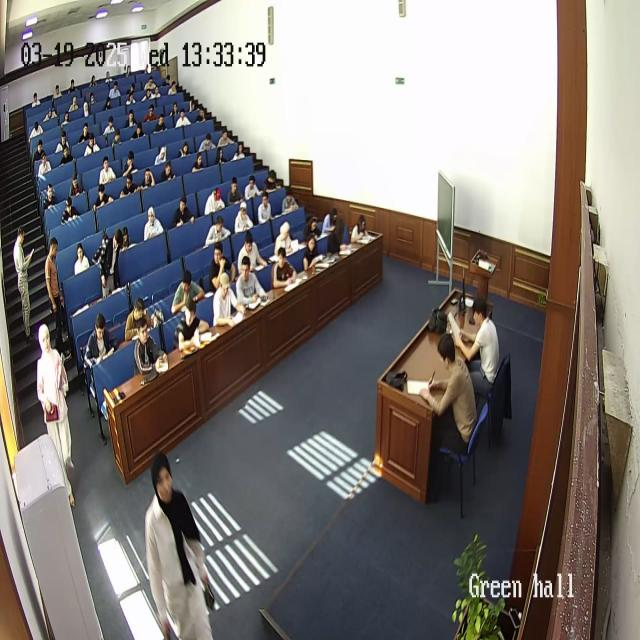person: (144, 454, 214, 636), (419, 332, 478, 488), (36, 322, 75, 503), (456, 296, 500, 408), (12, 224, 36, 339), (45, 234, 69, 348), (94, 225, 124, 297), (132, 315, 165, 373), (84, 312, 116, 370), (212, 271, 244, 328), (177, 296, 210, 351), (235, 256, 267, 308), (172, 271, 206, 315), (208, 241, 235, 293), (124, 297, 154, 340), (237, 229, 265, 274), (272, 244, 298, 289), (327, 219, 350, 255), (205, 216, 231, 247), (274, 219, 295, 257), (302, 232, 322, 271), (144, 204, 164, 241), (173, 195, 195, 228), (204, 185, 226, 216), (321, 204, 341, 237), (234, 200, 254, 232), (73, 242, 91, 276), (256, 190, 274, 224), (350, 214, 370, 244), (262, 165, 281, 194), (82, 132, 99, 164), (281, 184, 299, 214), (99, 156, 117, 186), (60, 195, 78, 225), (242, 174, 260, 203), (122, 171, 140, 197), (226, 173, 242, 200), (231, 138, 248, 162), (37, 154, 55, 176), (164, 162, 178, 190), (191, 148, 206, 174), (199, 131, 215, 155), (68, 174, 84, 197), (100, 113, 116, 136), (123, 148, 137, 174), (175, 106, 190, 130), (153, 145, 169, 167), (306, 216, 321, 239), (130, 120, 147, 140), (108, 128, 125, 148), (45, 179, 57, 207), (56, 131, 72, 152), (178, 136, 193, 158), (120, 217, 130, 250), (218, 123, 232, 146), (108, 77, 122, 100), (36, 140, 49, 162), (152, 116, 166, 136), (59, 143, 72, 164), (80, 98, 93, 119), (146, 102, 161, 120), (194, 106, 209, 124), (213, 144, 226, 164), (95, 188, 109, 206), (142, 166, 154, 187), (78, 122, 92, 140), (152, 78, 162, 100), (168, 74, 179, 94), (29, 118, 41, 136), (31, 89, 43, 107), (144, 74, 158, 88), (87, 87, 97, 106), (186, 95, 197, 112), (60, 108, 70, 126), (121, 92, 136, 104), (124, 62, 136, 77), (125, 108, 136, 124), (102, 93, 111, 111), (170, 101, 182, 114), (143, 86, 154, 100), (53, 81, 62, 98), (44, 105, 56, 117), (104, 69, 115, 82), (69, 97, 78, 111), (89, 74, 98, 88), (68, 76, 77, 90), (162, 70, 169, 86), (126, 81, 134, 93)
